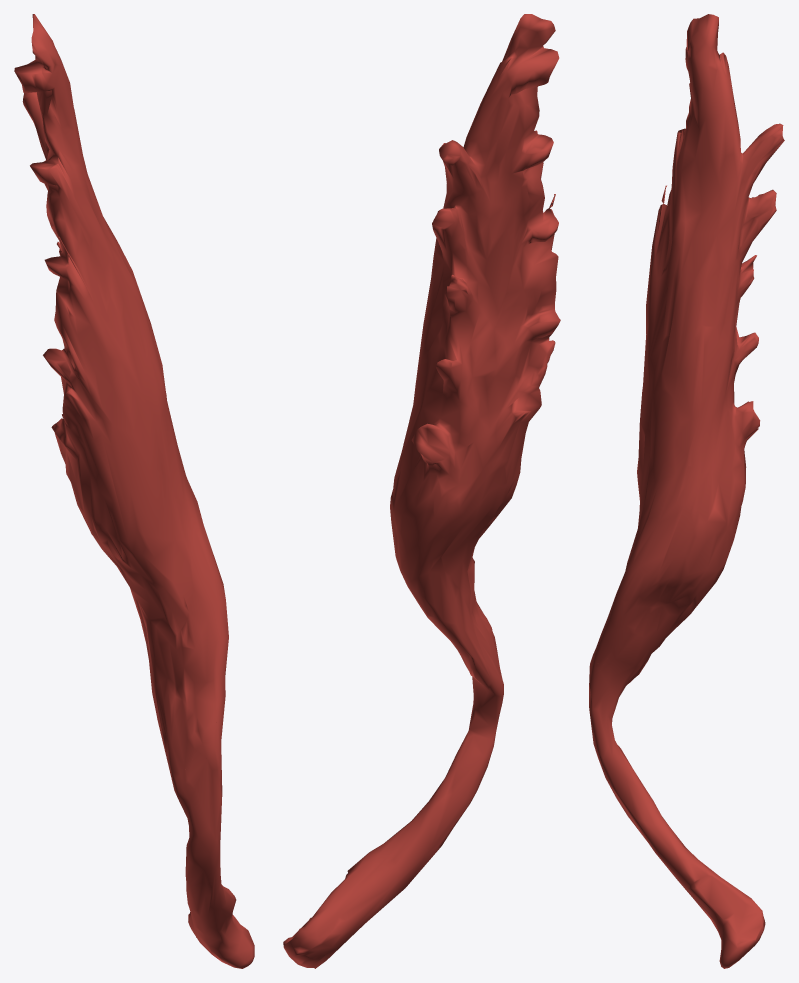
Rendered from musculos-psoas-major-l.glb.
The picture shows the model from 3 angles, left to right: view 1: azimuth 30°, elevation 25°; view 2: azimuth 150°, elevation 25°; view 3: azimuth 270°, elevation 25°; orthographic projection. The views are drawn at different scales.
Visible parts, largest first — view 1: Psoas major.l; view 2: Psoas major.l; view 3: Psoas major.l.
Part boxes in pixels (box(x1,y1,x2,y2)): Psoas major.l: box(14, 14, 254, 968); Psoas major.l: box(283, 14, 560, 968); Psoas major.l: box(589, 14, 784, 968).
Size of the model in its own units: 0.0998 by 0.3799 by 0.0781.
